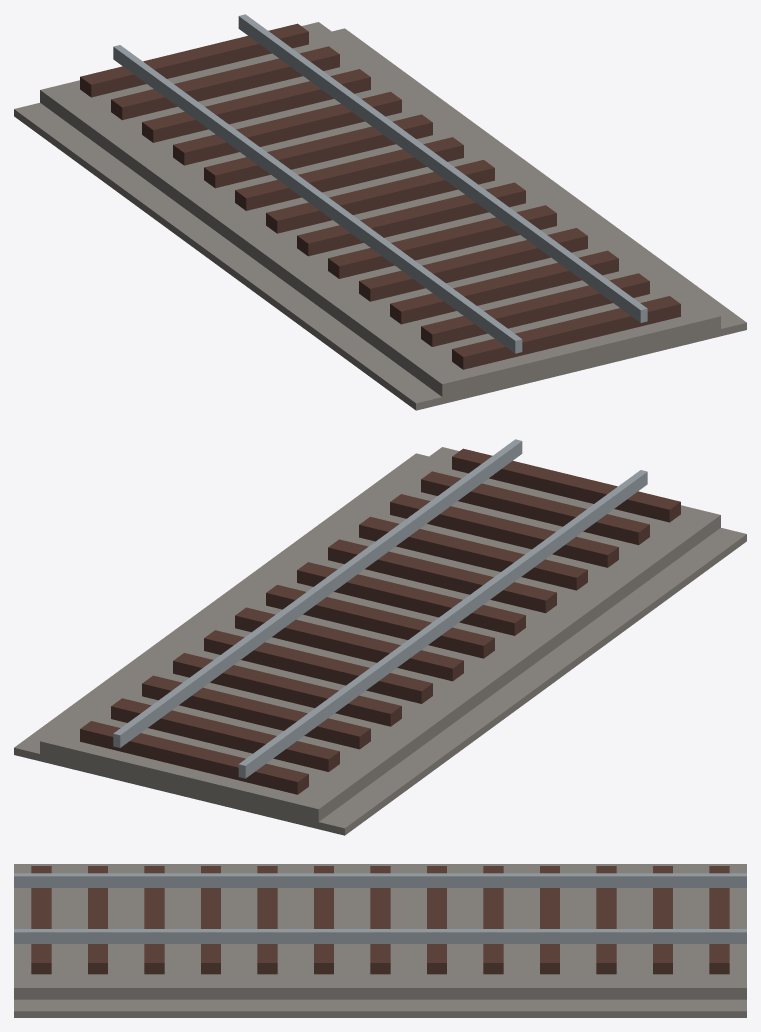
The model's file is roadevents_track.glb.
3 renders of one model, top to bottom at view 1: azimuth 30°, elevation 25°; view 2: azimuth 150°, elevation 25°; view 3: azimuth 270°, elevation 25°, orthographic. The views are drawn at different scales.
Parts seen in each view (by area): view 1: Track; view 2: Track; view 3: Track.
Boxes of the visible parts, bbox=[...] form: Track: bbox=[14, 14, 746, 410]; Track: bbox=[14, 439, 746, 835]; Track: bbox=[14, 864, 746, 1017].
Size of the model in its own units: 3.8 by 0.5 by 8.
